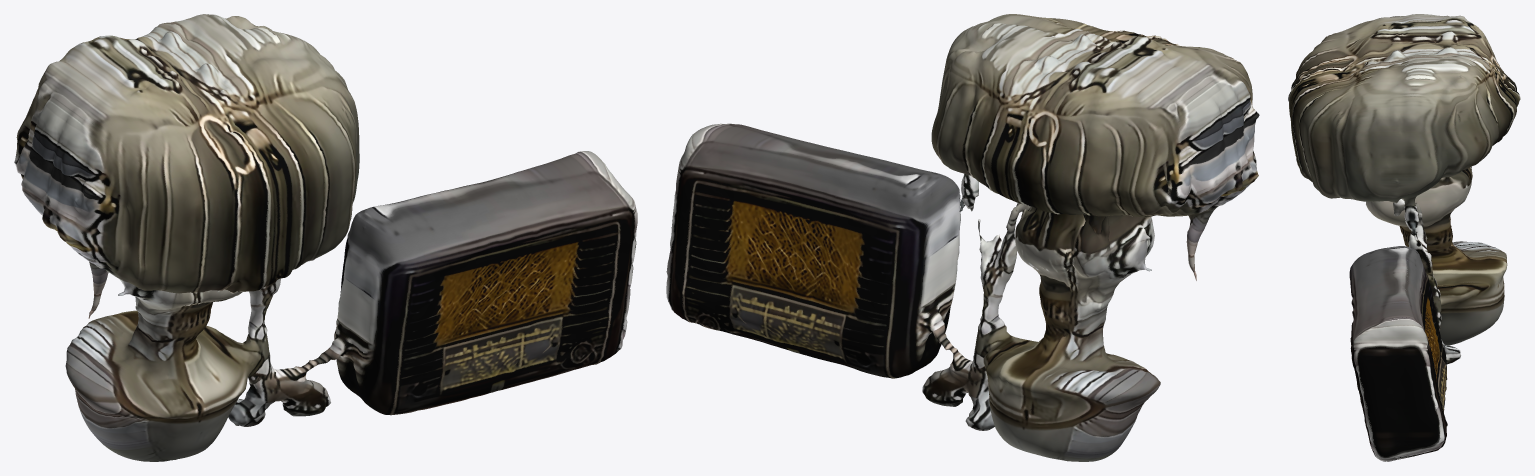
File: kfl-2316.glb
3 renders of one model, left to right at view 1: azimuth 30°, elevation 25°; view 2: azimuth 150°, elevation 25°; view 3: azimuth 270°, elevation 25°, orthographic. The views are drawn at different scales.
Parts seen in each view (by area): view 1: kfl-2316; view 2: kfl-2316; view 3: kfl-2316.
Part boxes in pixels (box(x1,y1,x2,y2)): kfl-2316: box(14, 14, 637, 461); kfl-2316: box(666, 14, 1259, 461); kfl-2316: box(1288, 14, 1520, 461).
Bounding box in the file's own units: 0.9913 × 0.6906 × 0.4864.
1 material, 1 textured.
